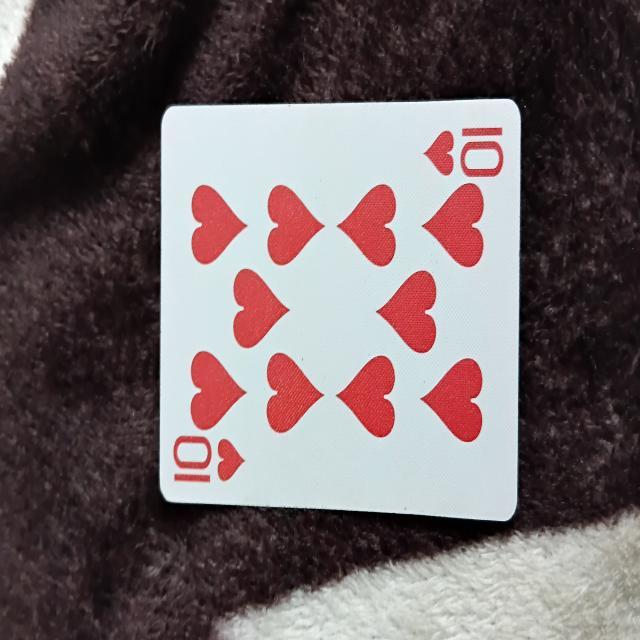10H: (156, 91, 522, 518)
